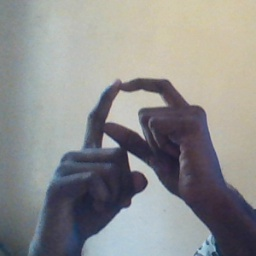D: (72, 74, 205, 205)
